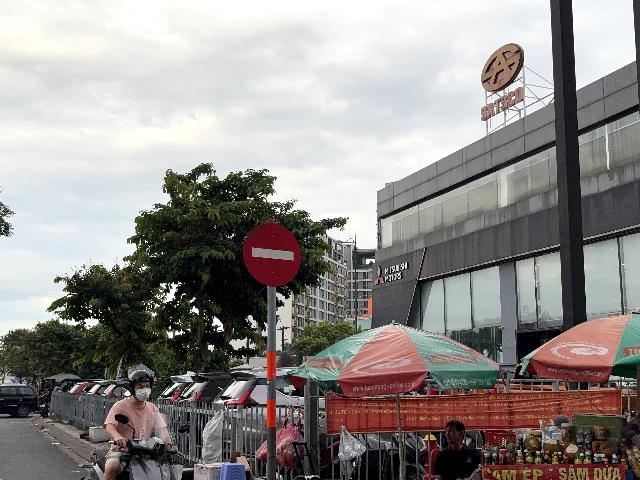cam-di-nguoc-chieu: (243, 223, 301, 286)
